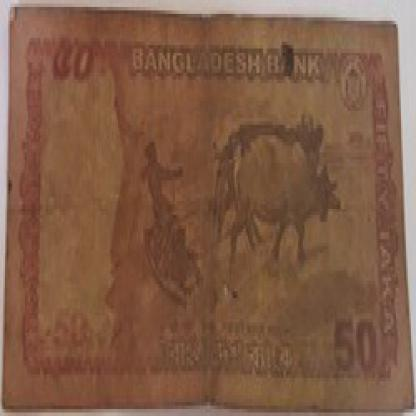Fifty taka: (328, 291, 386, 402), (46, 35, 122, 90)
